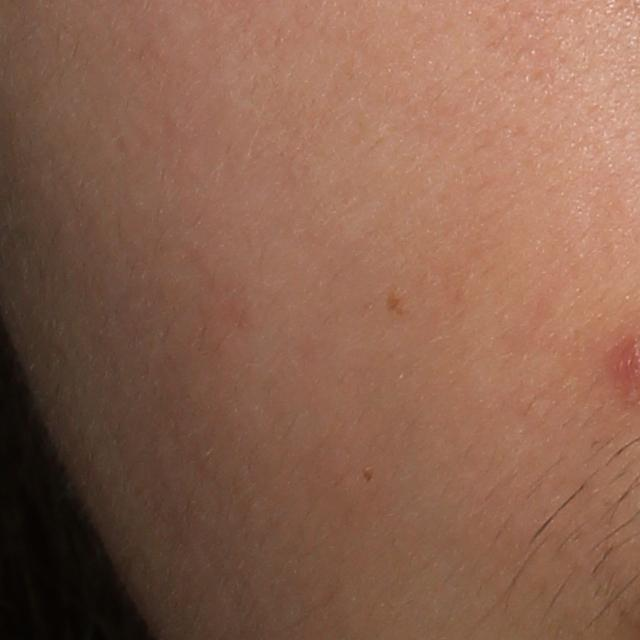melasma: (386, 285, 410, 319)
